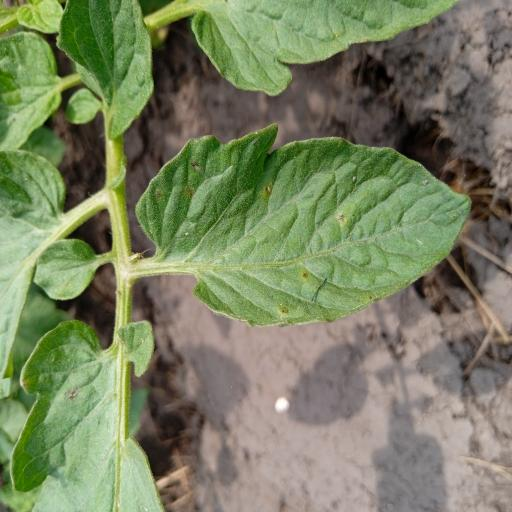Tomato_Brown_Spots: (136, 120, 471, 330)
